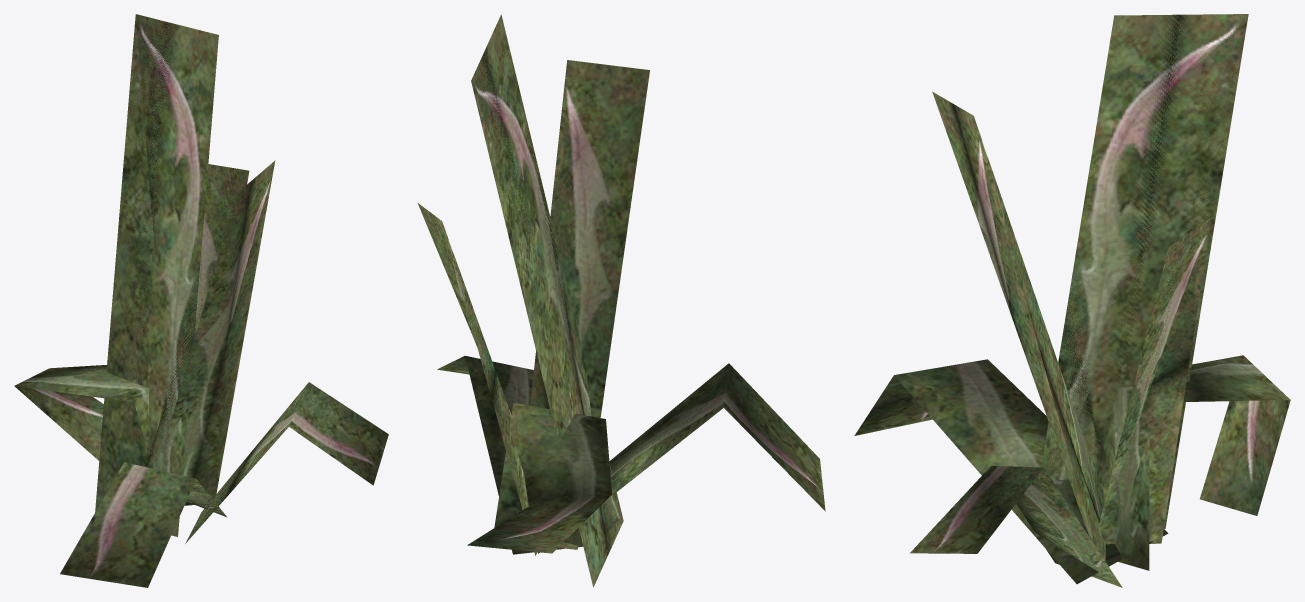
The model's file is core_leaf_razorgrass_mtns_a2_l1.fbx.
The picture shows the model from 3 angles, left to right: view 1: azimuth 30°, elevation 25°; view 2: azimuth 150°, elevation 25°; view 3: azimuth 270°, elevation 25°; orthographic projection. The views are drawn at different scales.
Parts seen in each view (by area): view 1: mesh_node; view 2: mesh_node; view 3: mesh_node.
Boxes of the visible parts, box(x1,y1,x2,y2) form: mesh_node: box(14, 14, 388, 587); mesh_node: box(417, 14, 825, 587); mesh_node: box(854, 14, 1290, 587).
Bounding box in the file's own units: 0.8867 × 1.2 × 0.8133.
